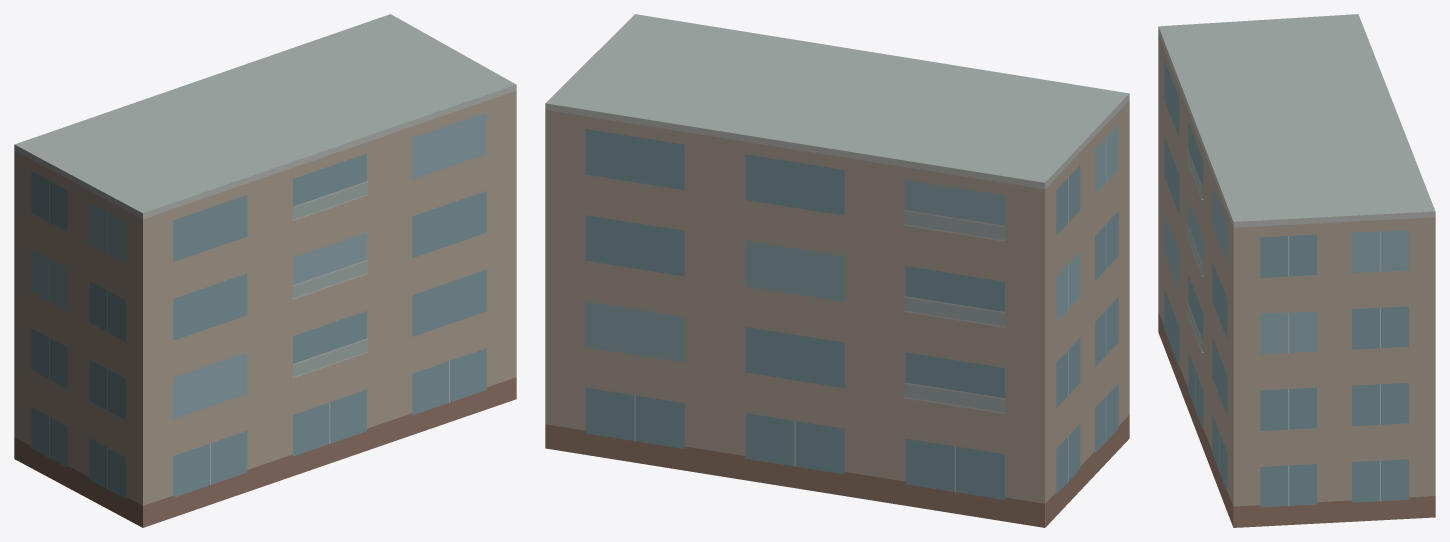
Rendered from survey-upis-32757390.glb.
3 views of the same model, side by side, from view 1: azimuth 30°, elevation 25°; view 2: azimuth 150°, elevation 25°; view 3: azimuth 270°, elevation 25° (orthographic). The views are drawn at different scales.
Parts seen in each view (by area): view 1: survey-upis-32757390.tmp; view 2: survey-upis-32757390.tmp; view 3: survey-upis-32757390.tmp.
Part boxes in pixels (bbox=[...]): survey-upis-32757390.tmp: bbox=[14, 14, 516, 527]; survey-upis-32757390.tmp: bbox=[545, 14, 1129, 527]; survey-upis-32757390.tmp: bbox=[1158, 14, 1435, 527].
Size of the model in its own units: 18.66 by 12.8 by 10.52.
